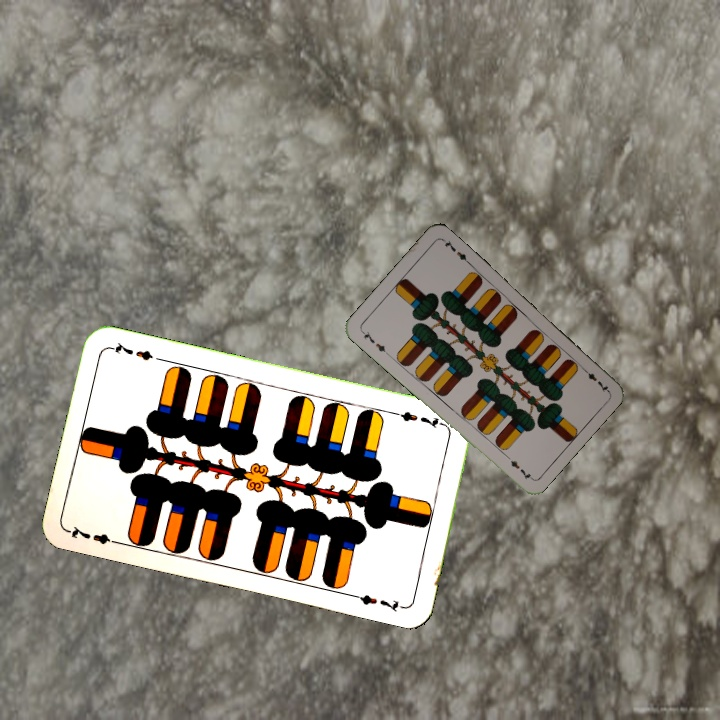E7: (65, 521, 124, 547), (390, 407, 448, 431), (577, 363, 611, 395), (357, 327, 391, 357)
